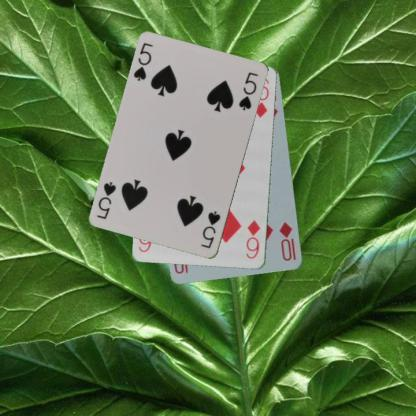10d: (276, 220, 298, 262)
5s: (198, 209, 223, 250), (131, 40, 154, 82)
6d: (244, 217, 262, 260)
